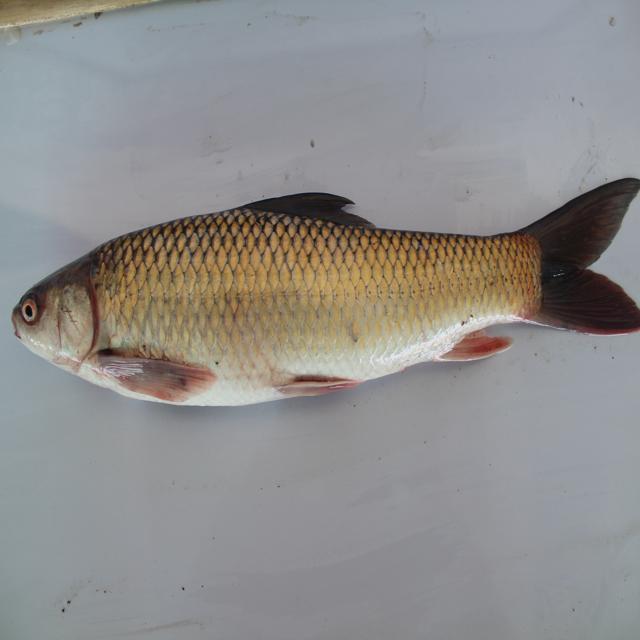Mori: (23, 171, 639, 414)
